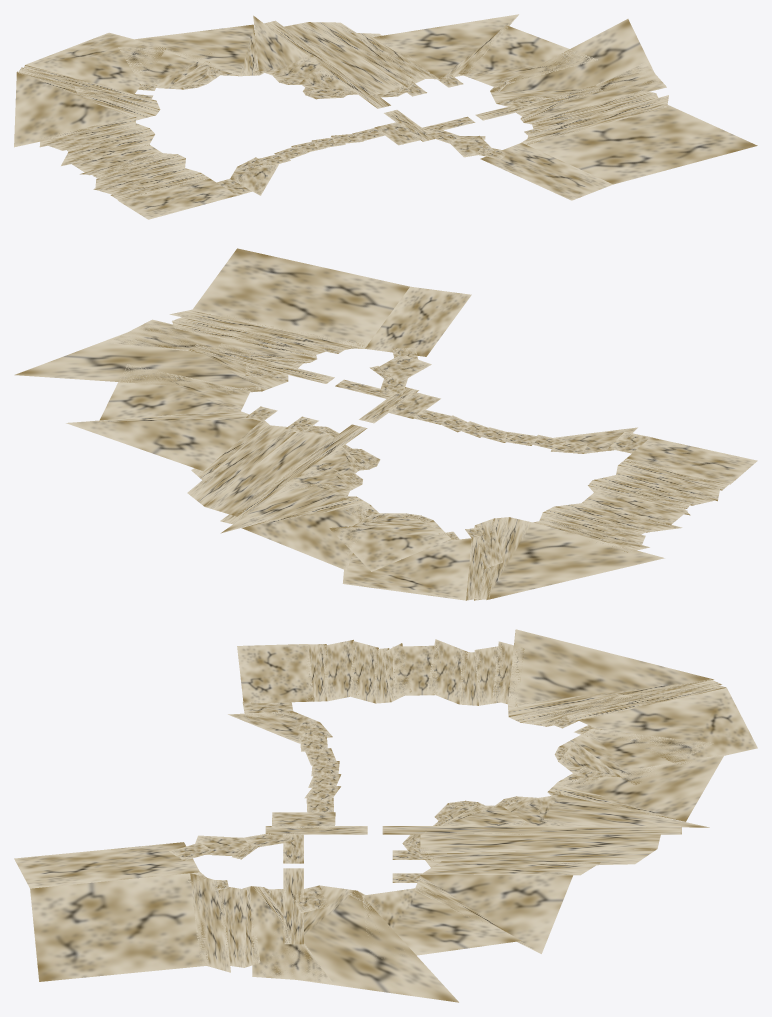
Rendered from LV6Nav.fbx.
3 views of the same model, one above another, from view 1: azimuth 30°, elevation 25°; view 2: azimuth 150°, elevation 25°; view 3: azimuth 270°, elevation 25° (orthographic). The views are drawn at different scales.
Visible parts, largest first — view 1: polySurface87; view 2: polySurface87; view 3: polySurface87.
Part boxes in pixels (left/top/right/bottom): polySurface87: left=14, top=14, right=757, bottom=219; polySurface87: left=14, top=248, right=757, bottom=600; polySurface87: left=14, top=629, right=757, bottom=1002.
Size of the model in its own units: 1165 by 0 by 981.
